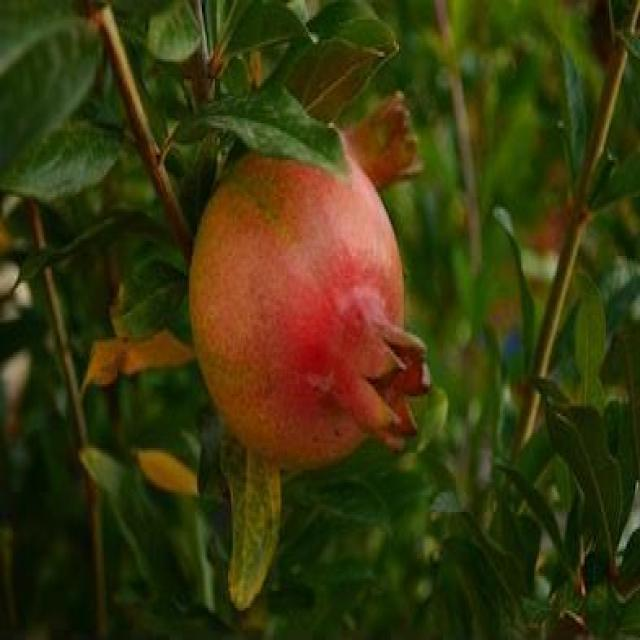Pomegranate: (189, 125, 435, 477)
